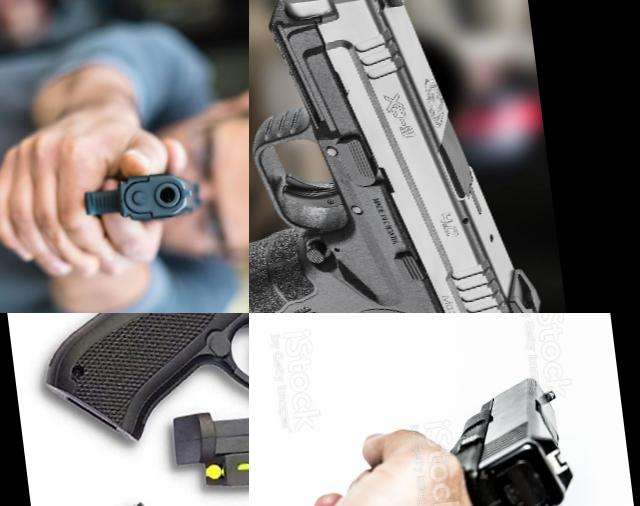handgun: (249, 0, 552, 313), (249, 371, 590, 506), (22, 313, 249, 491), (39, 450, 249, 506), (76, 166, 205, 233)
